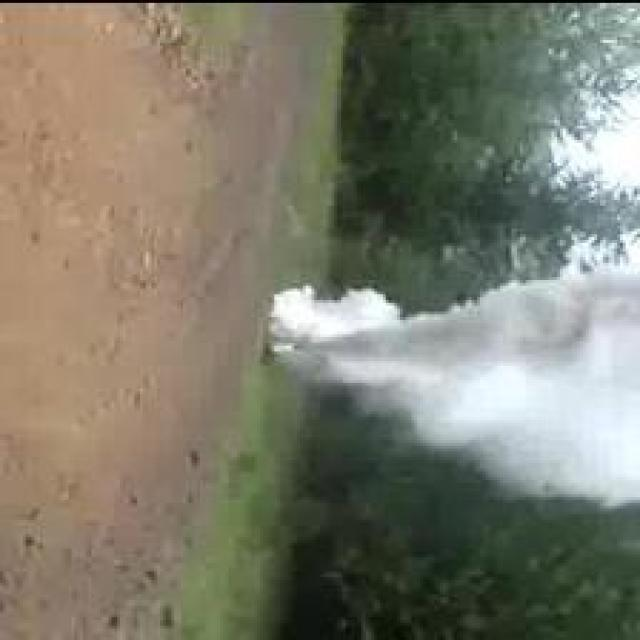Smoke: (265, 259, 640, 511)
